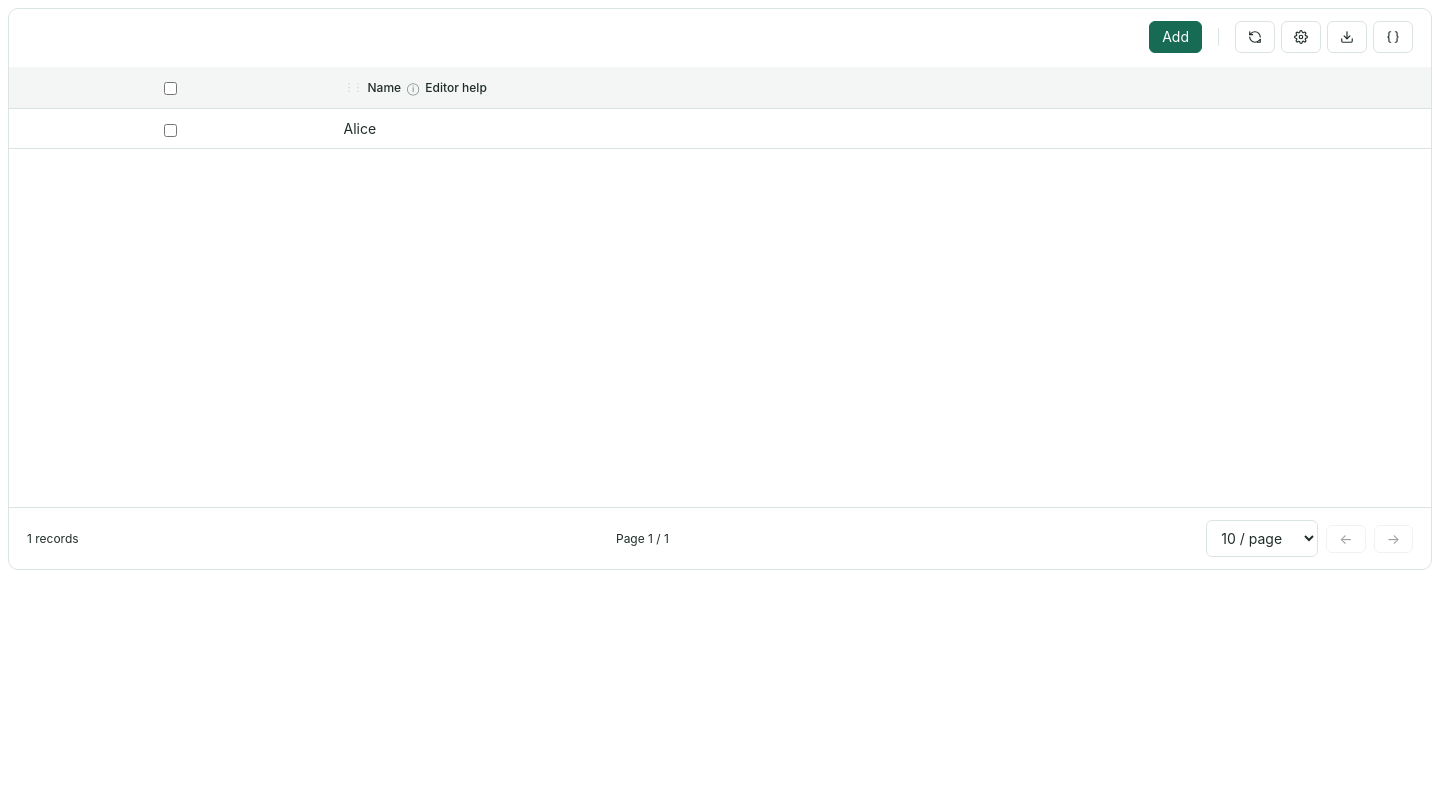
table passes its local tip component into the editor
Click the button "Add": [1176, 37] box [1149, 21, 1202, 53]
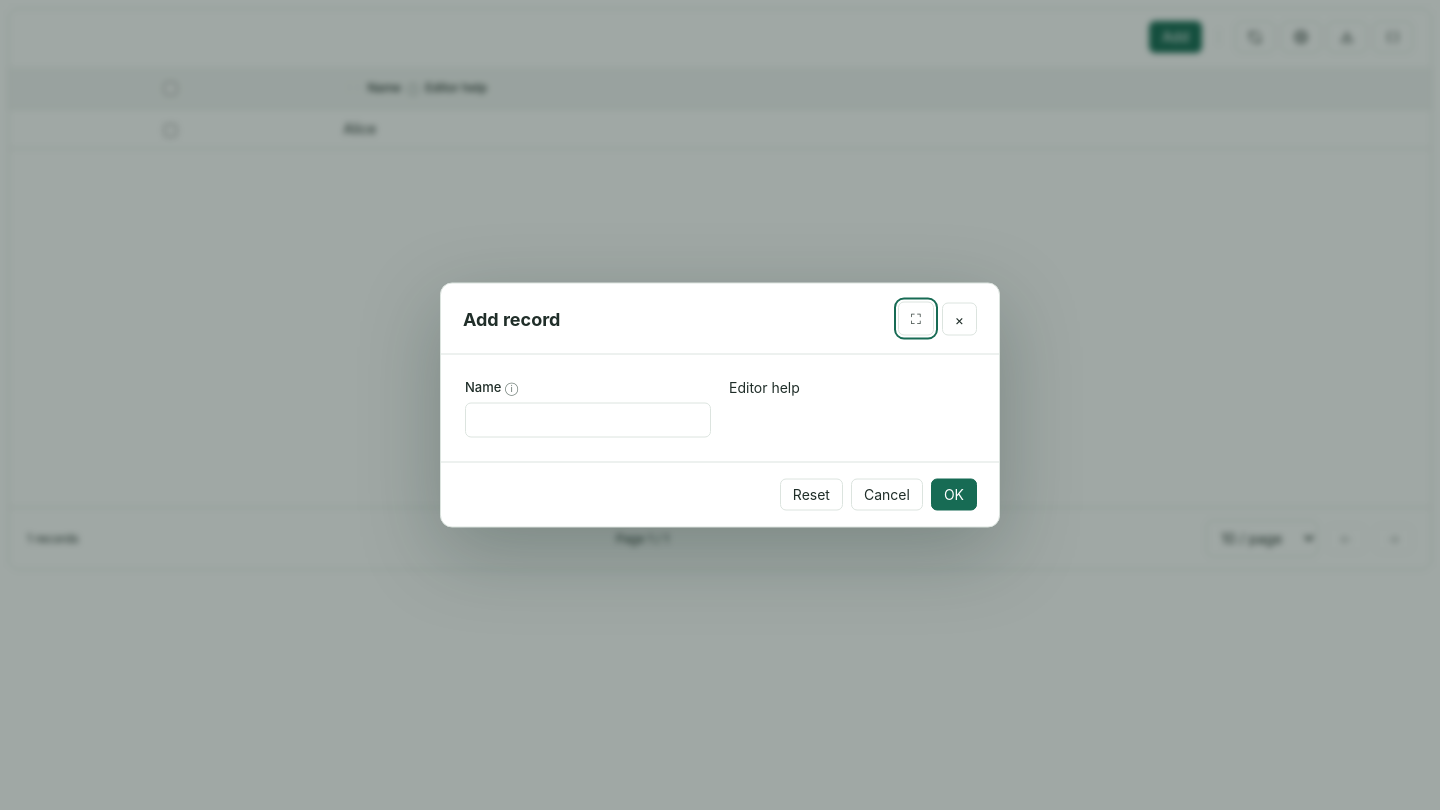
Result: the text named "Local help" reads "Editor help" at [729, 378, 800, 396]
